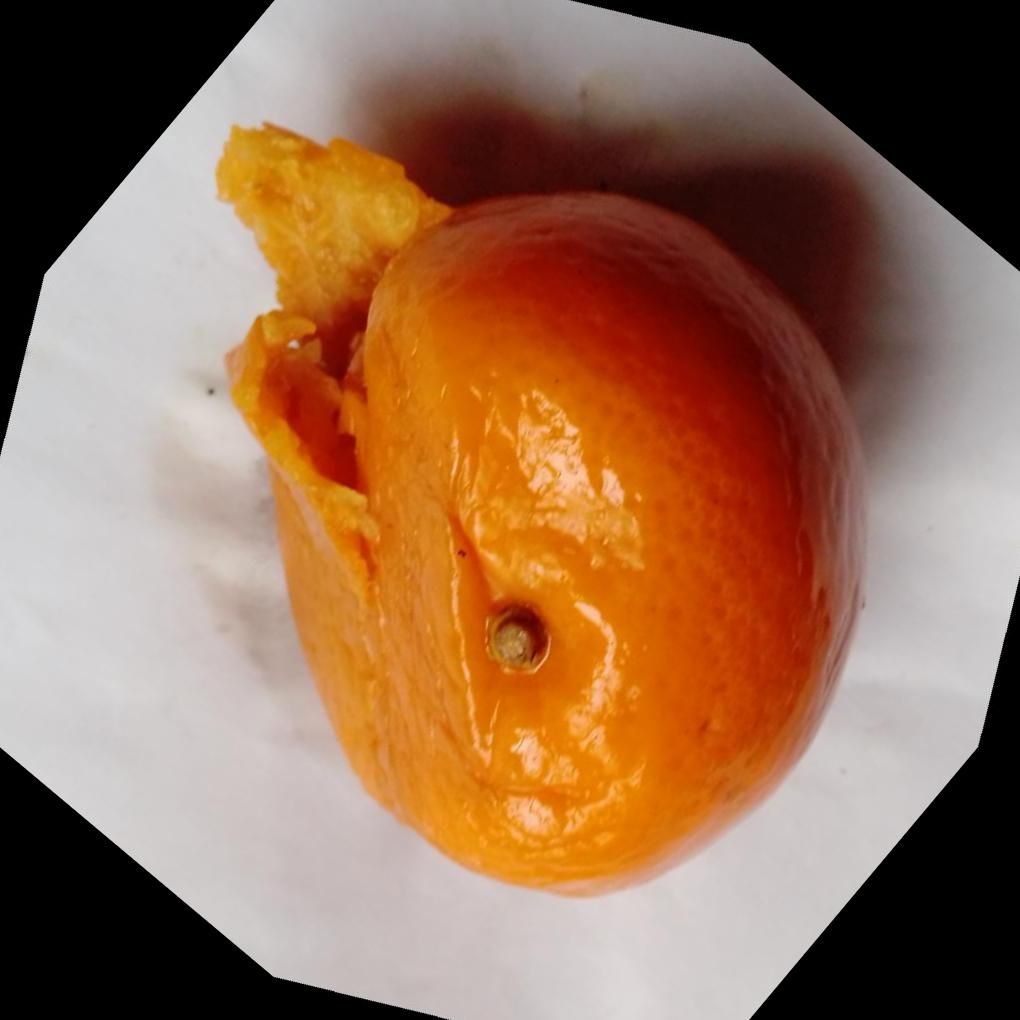FreshOrange: (209, 120, 869, 899)
